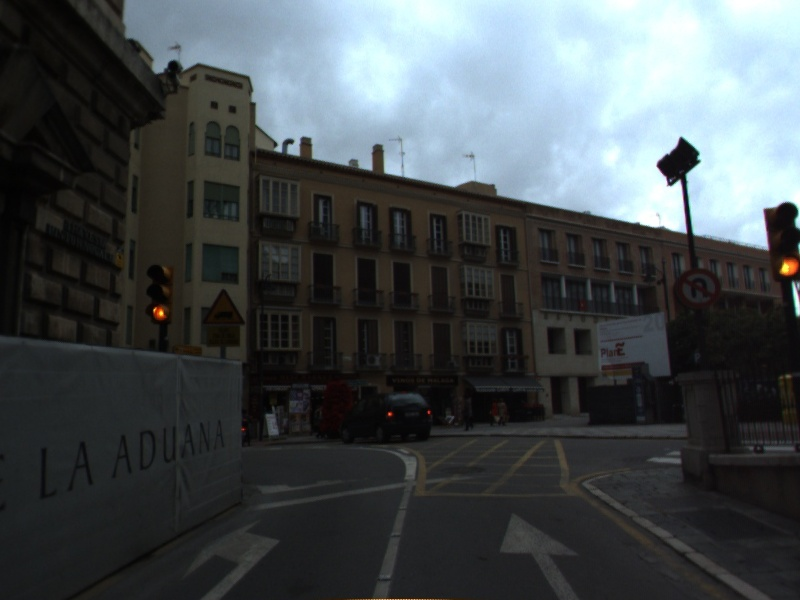LEFT: (179, 516, 282, 600)
STRAIGHT: (495, 507, 584, 600)
